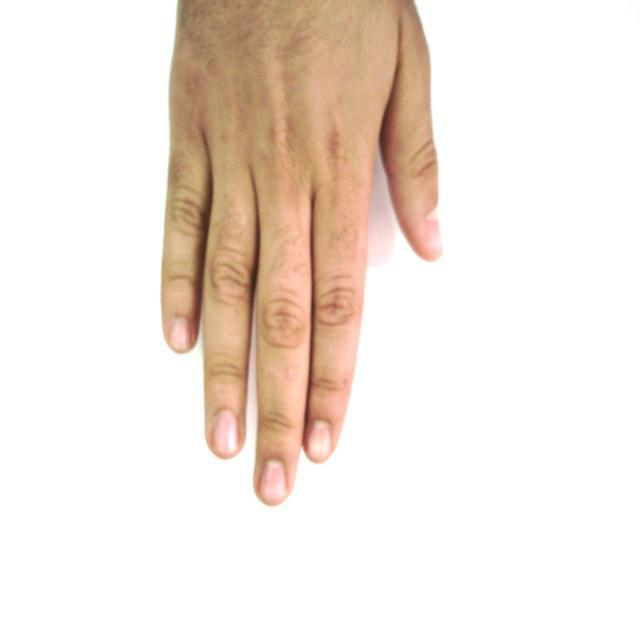Fingernail: (214, 411, 239, 455), (260, 460, 287, 500), (308, 422, 331, 461), (170, 318, 190, 351), (427, 211, 442, 251)
